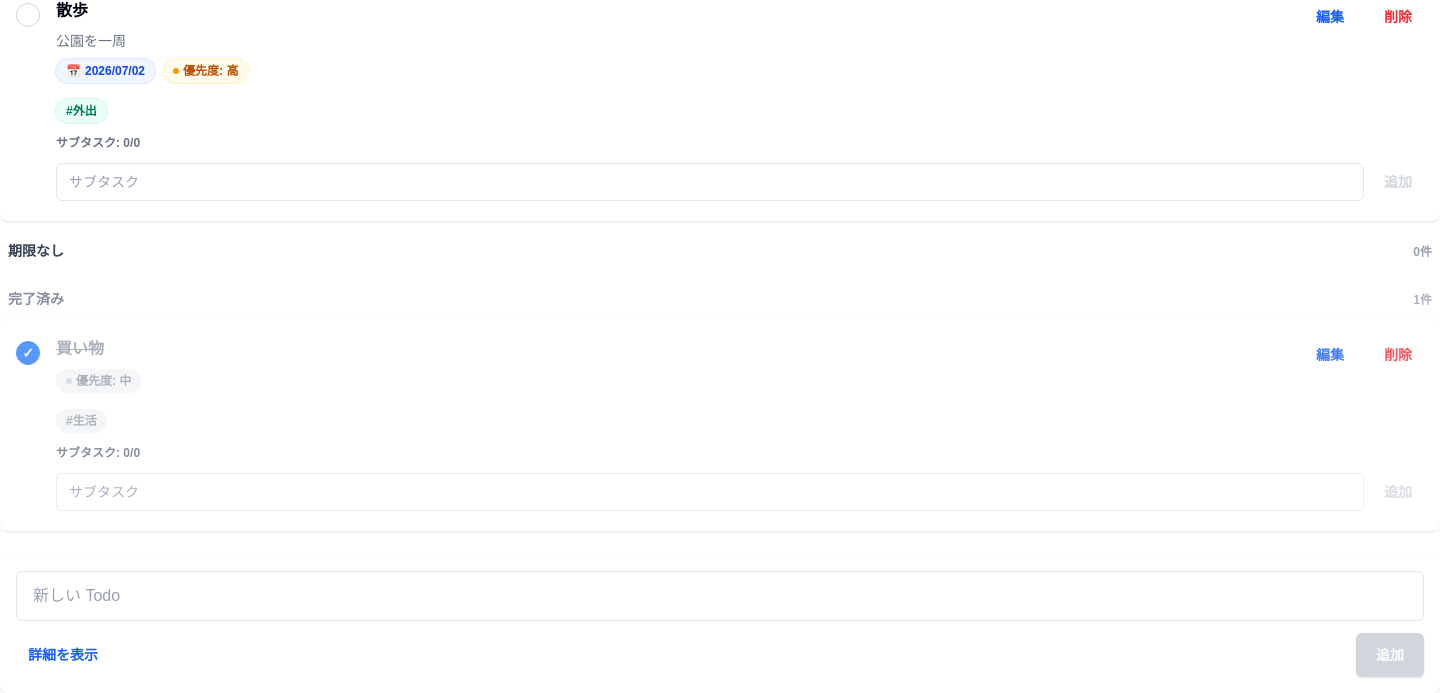
Test: Todo を追加できる
(page scrolled)
Type "読書" into the field named "追加する Todo" at (720, 596), box [16,571,1424,621]
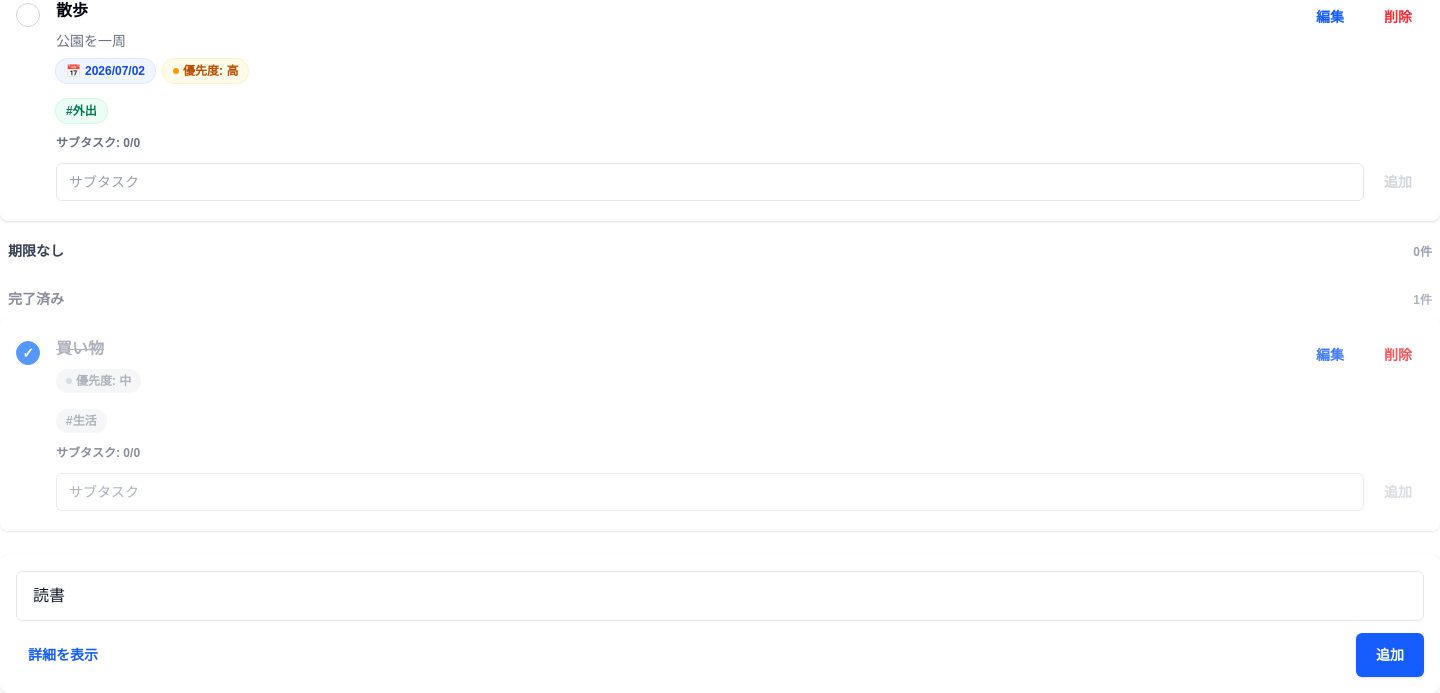
Click the button with aria-label "Todoを追加" at (1390, 655), box [1356,633,1424,677]
(page scrolled)
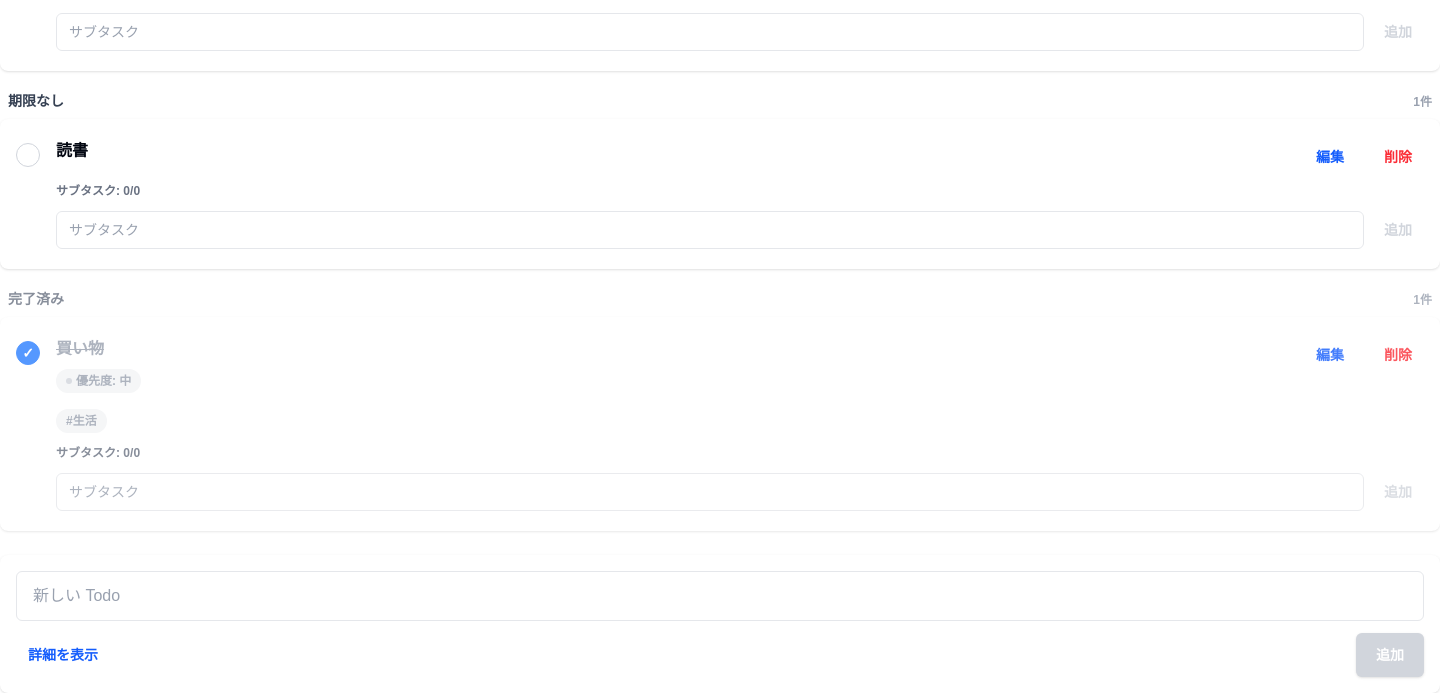
Expected: the element named "追加する Todo 期限日" is empty, [16,571,1424,677]
Expected: the text "読書" is shown, [56,142,88,159]
Expected: the field named "追加する Todo" is empty, [16,571,1424,621]
